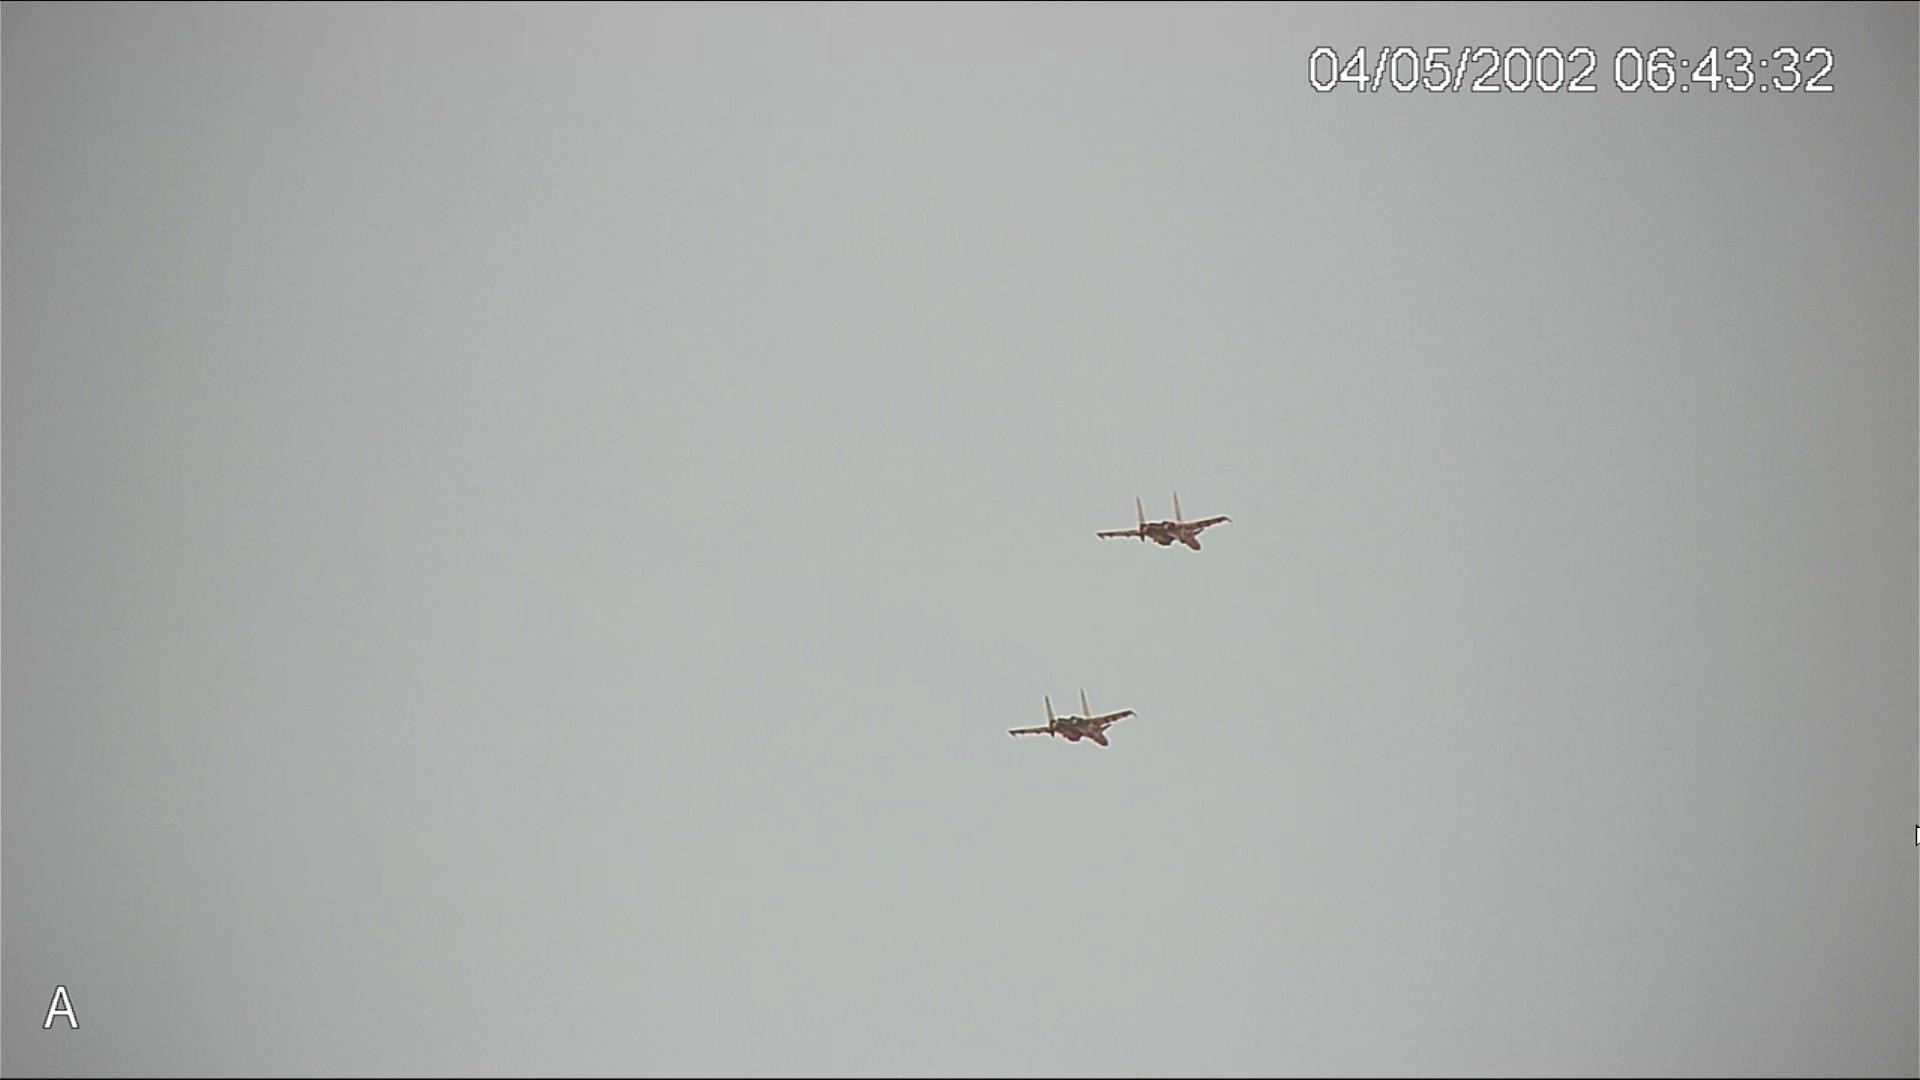SU_30: (1093, 488, 1236, 560), (1009, 686, 1135, 750)
